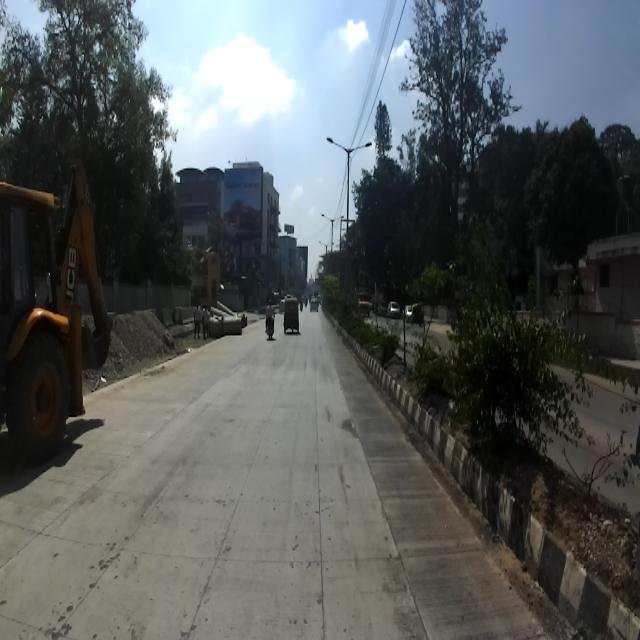truck ahead at: (0, 157, 115, 475)
